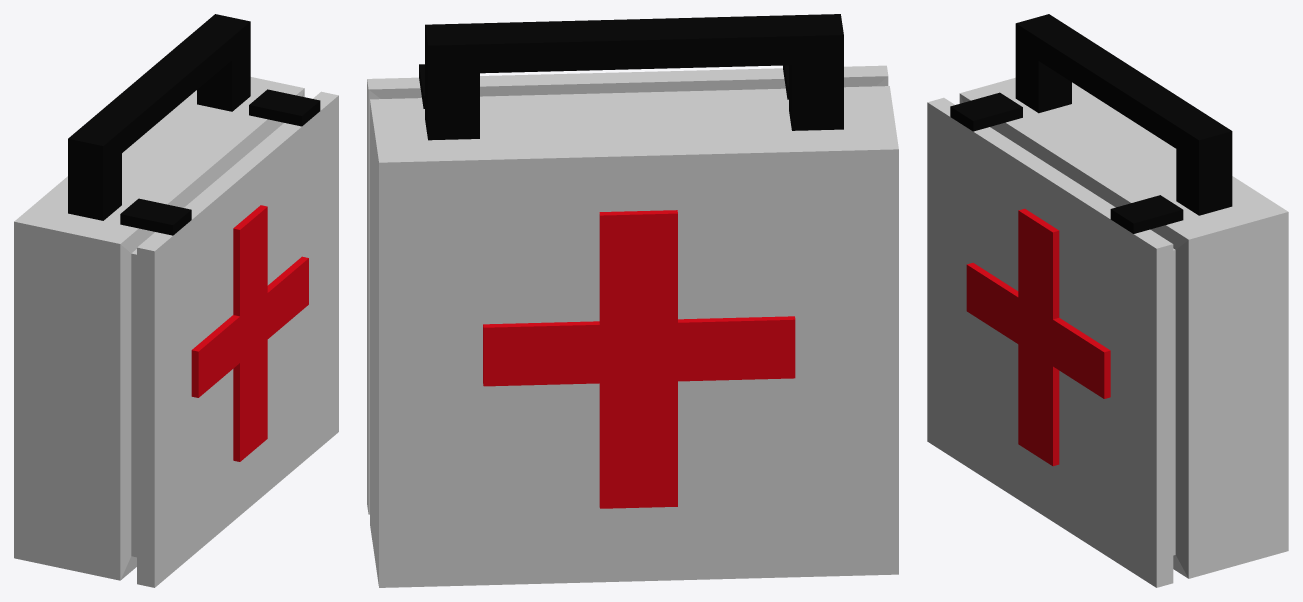
Rendered from medkit.fbx.
3 renders of one model, left to right at view 1: azimuth 30°, elevation 25°; view 2: azimuth 150°, elevation 25°; view 3: azimuth 270°, elevation 25°, orthographic. The views are drawn at different scales.
Parts seen in each view (by area): view 1: Grid; view 2: Grid; view 3: Grid.
Part boxes in pixels (x1=…): Grid: x1=14, y1=14, x2=338, y2=587; Grid: x1=367, y1=14, x2=898, y2=587; Grid: x1=927, y1=14, x2=1288, y2=587.
Size of the model in its own units: 98.62 by 104 by 82.12.
